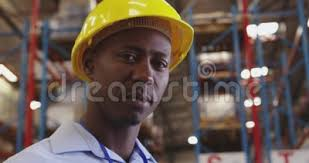Person_wearing_helmet: (54, 0, 205, 82)
